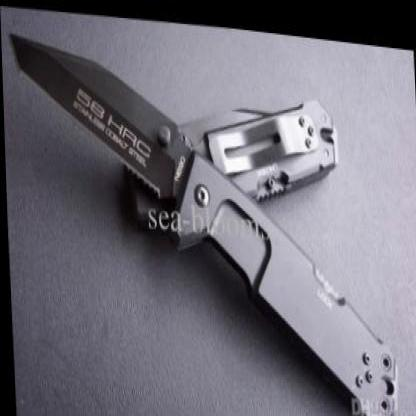knife: (3, 19, 193, 203)
